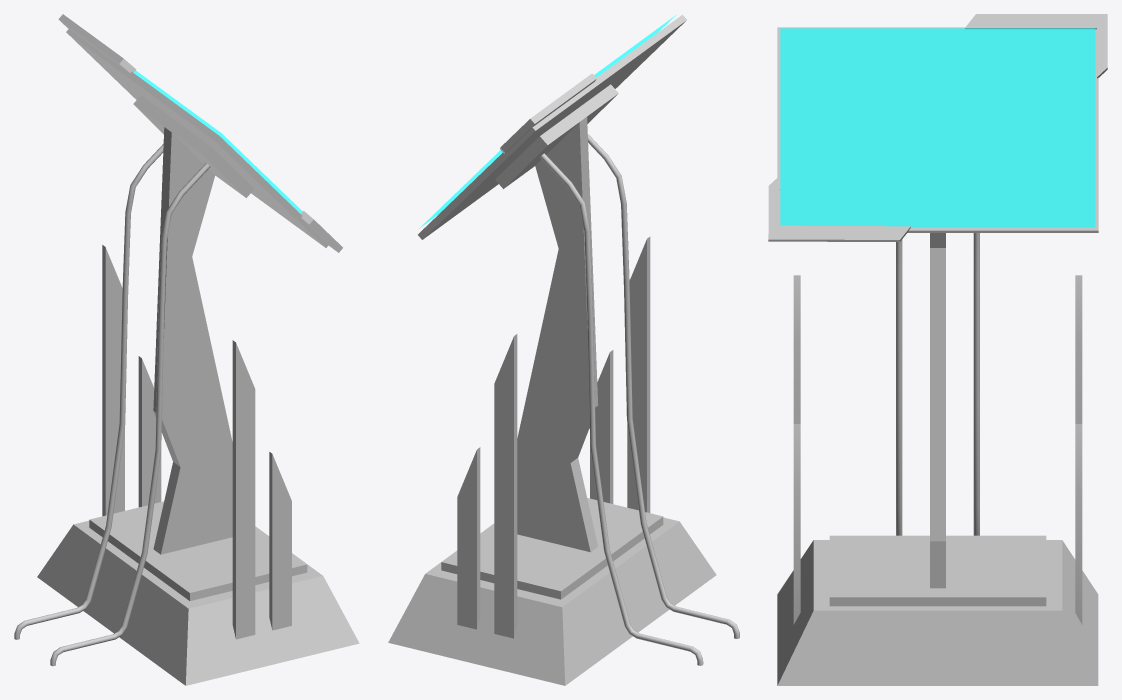
3 views of the same model, side by side, from view 1: azimuth 30°, elevation 25°; view 2: azimuth 150°, elevation 25°; view 3: azimuth 270°, elevation 25° (orthographic). The views are drawn at different scales.
Visible parts, largest first — view 1: terminal, holo; view 2: terminal, holo; view 3: terminal, holo.
Boxes of the visible parts, box(x1,y1,x2,y2) form: terminal: box(14, 14, 359, 685); holo: box(134, 70, 302, 213); terminal: box(388, 15, 739, 685); holo: box(419, 15, 675, 228); terminal: box(768, 14, 1107, 685); holo: box(780, 28, 1095, 227).
Size of the model in its own units: 60.33 by 126 by 64.98.
